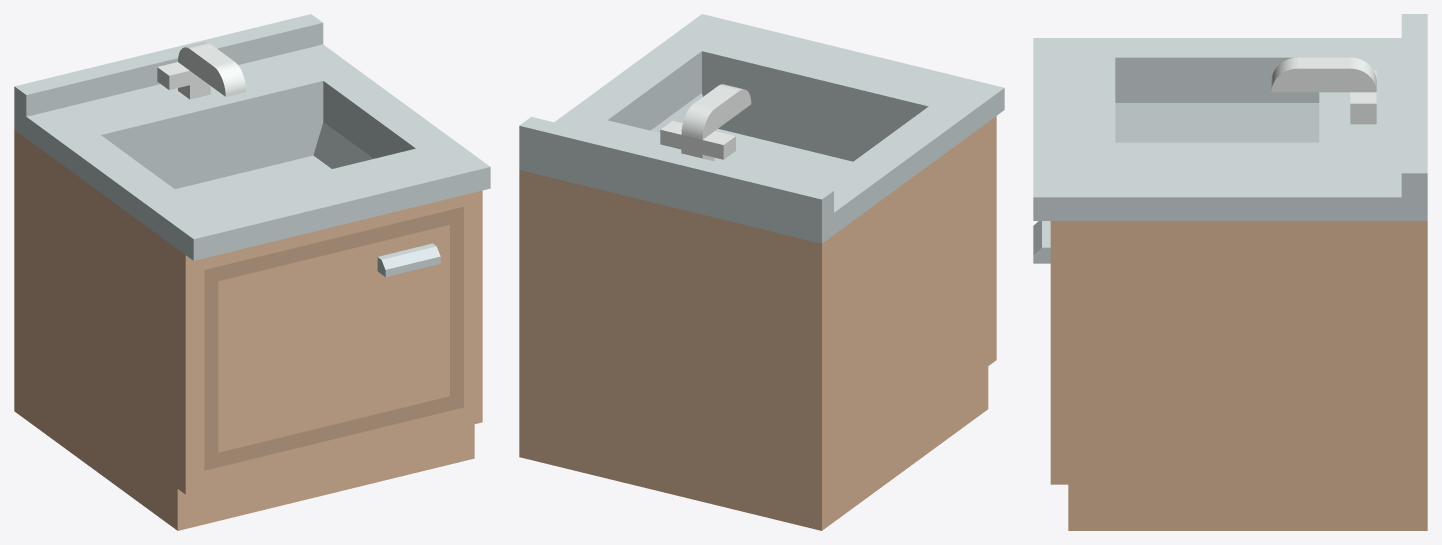
File: kitchenSink.glb
3 renders of one model, left to right at view 1: azimuth 30°, elevation 25°; view 2: azimuth 150°, elevation 25°; view 3: azimuth 270°, elevation 25°, orthographic. The views are drawn at different scales.
Visible parts, largest first — view 1: kitchenSink(Clone); view 2: kitchenSink(Clone); view 3: kitchenSink(Clone).
Part boxes in pixels (x1,y1,x2,y2): kitchenSink(Clone): (14,14,490,530); kitchenSink(Clone): (519,14,1004,530); kitchenSink(Clone): (1033,14,1427,530).
Size of the model in its own units: 0.43 by 0.49 by 0.45.
1 material, 1 textured.
